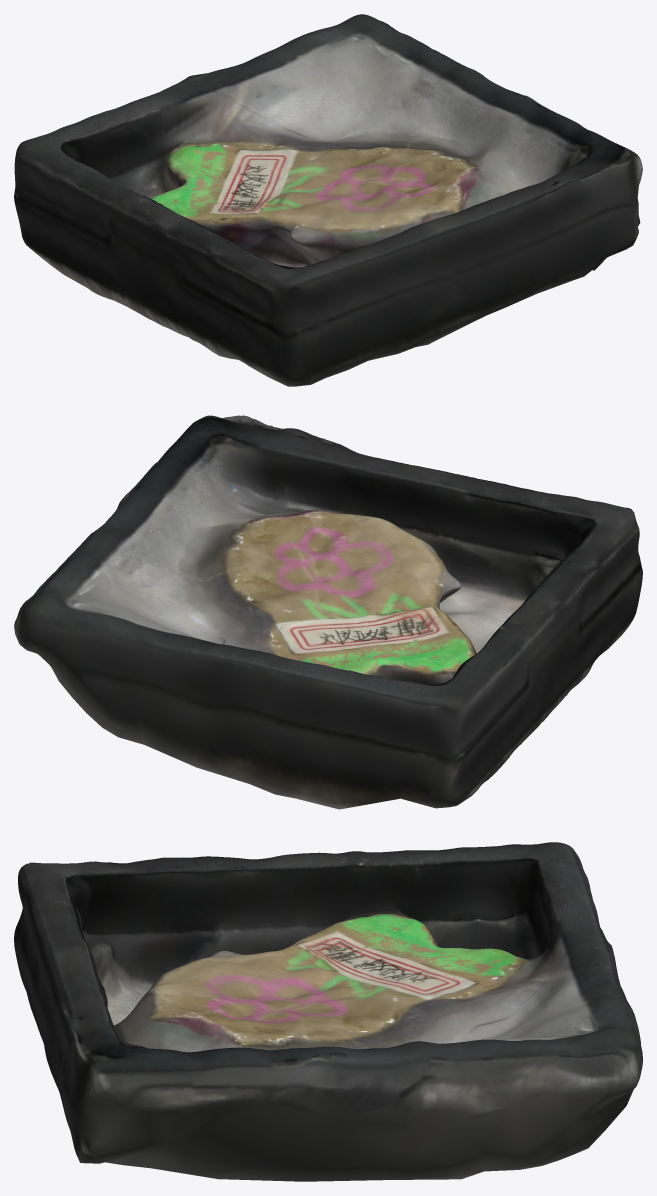
The picture shows the model from 3 angles, top to bottom: view 1: azimuth 30°, elevation 25°; view 2: azimuth 150°, elevation 25°; view 3: azimuth 270°, elevation 25°; orthographic projection. The views are drawn at different scales.
Size of the model in its own units: 0.6128 by 0.2339 by 0.6123.
Materials: 1 (1 with a texture image).
